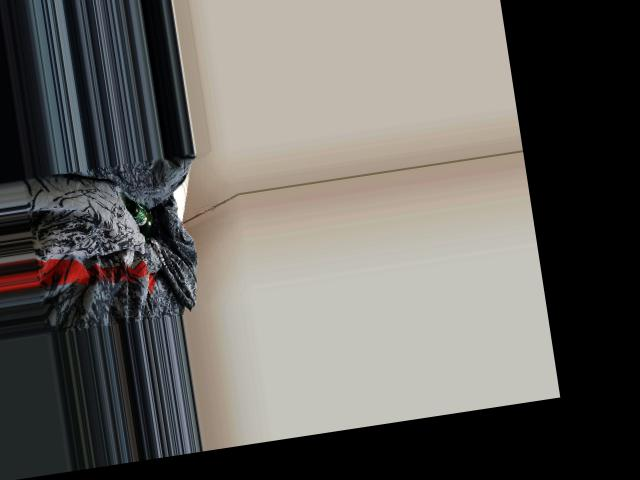beer: (125, 196, 158, 241)
